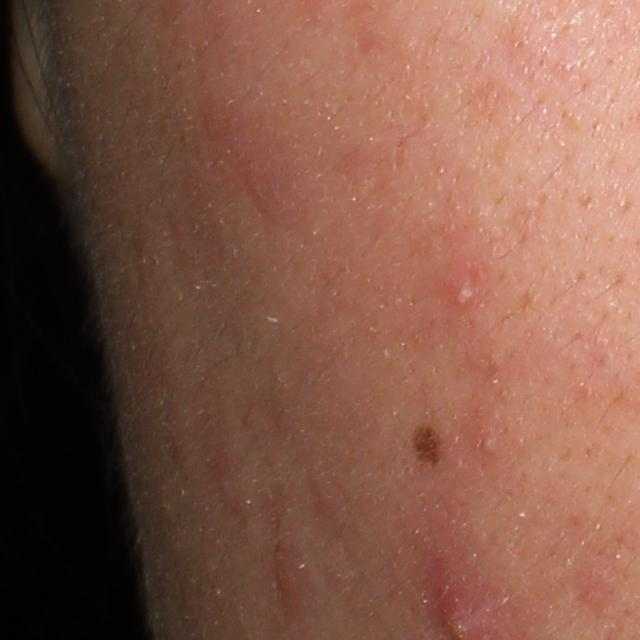nevus: (406, 421, 445, 469)
pustule: (429, 254, 487, 313)
